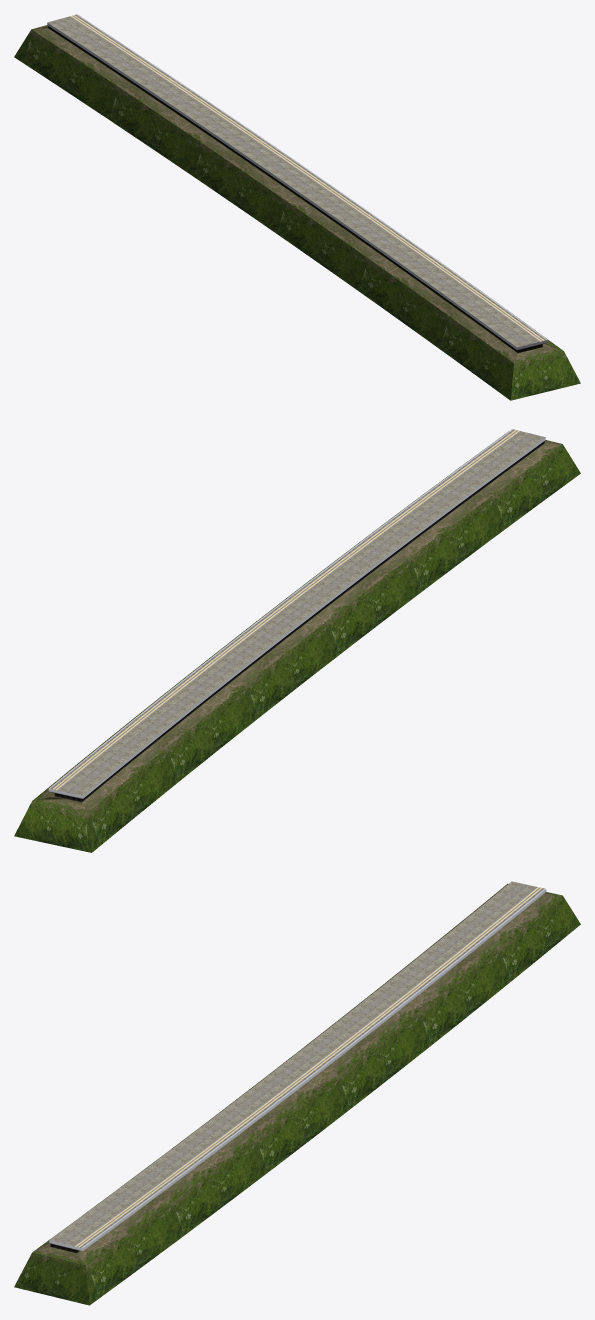
The model's file is platform_rus_2l.gltf.
The picture shows the model from 3 angles, top to bottom: view 1: azimuth 30°, elevation 25°; view 2: azimuth 150°, elevation 25°; view 3: azimuth 330°, elevation 25°; orthographic projection. The views are drawn at different scales.
Size of the model in its own units: 11.62 by 4.75 by 106.
Materials: 1 (1 with a texture image).
